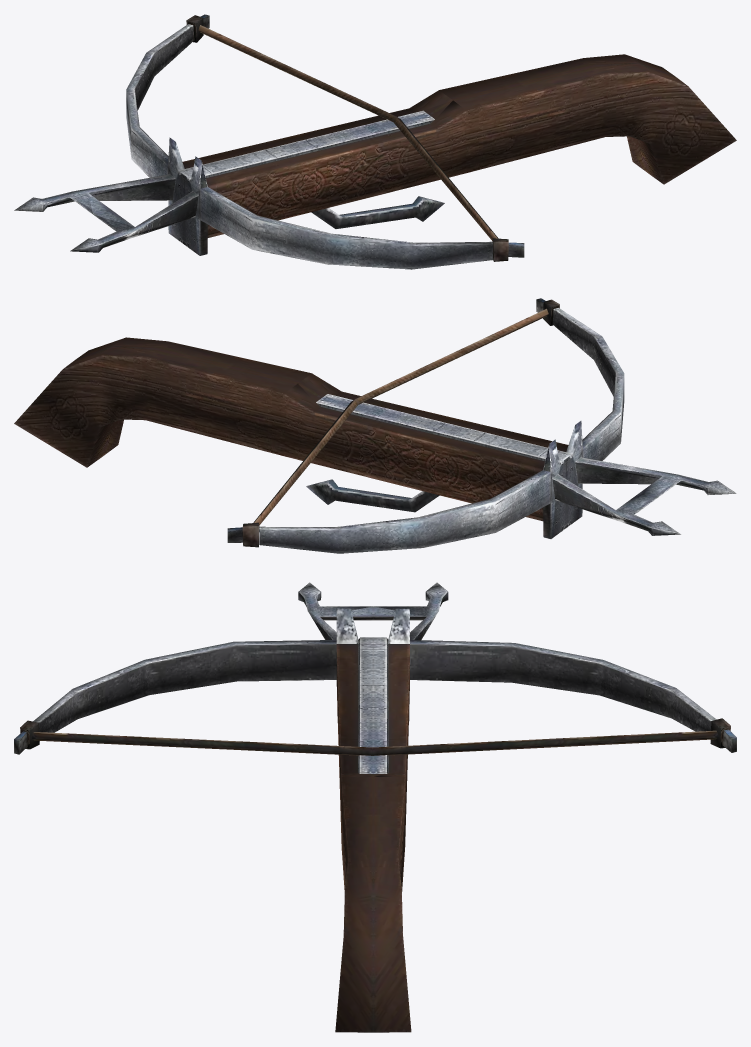
File: KMCROSSBOW03.glb
3 views of the same model, one above another, from view 1: azimuth 30°, elevation 25°; view 2: azimuth 150°, elevation 25°; view 3: azimuth 270°, elevation 25° (orthographic). The views are drawn at different scales.
Visible parts, largest first — view 1: KMCROSSBOW03; view 2: KMCROSSBOW03; view 3: KMCROSSBOW03.
Part boxes in pixels (x1,y1,x2,y2): KMCROSSBOW03: [14, 14, 736, 269]; KMCROSSBOW03: [14, 298, 736, 553]; KMCROSSBOW03: [14, 582, 736, 1032].
Bounding box in the file's own units: 0.6831 × 0.1319 × 0.5517.
Materials: 1 (1 with a texture image).
